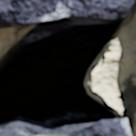brick: (0, 0, 133, 27), (0, 119, 130, 135)
crack: (0, 0, 135, 134)
